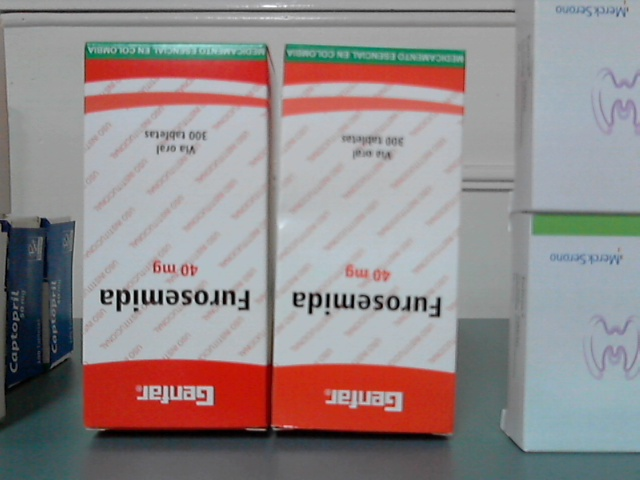Genfar: (275, 46, 463, 428), (84, 40, 265, 430)
